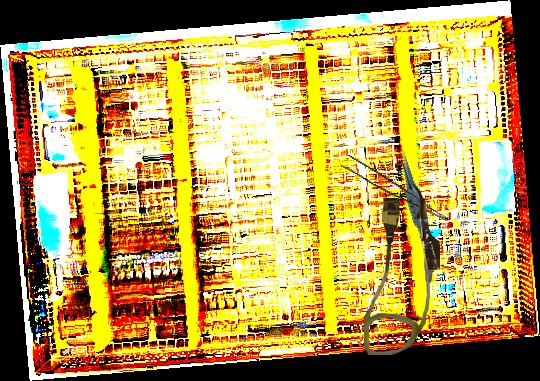Cannula: (364, 198, 440, 355)
Tissue Forceps: (338, 153, 455, 222), (391, 149, 446, 272)
